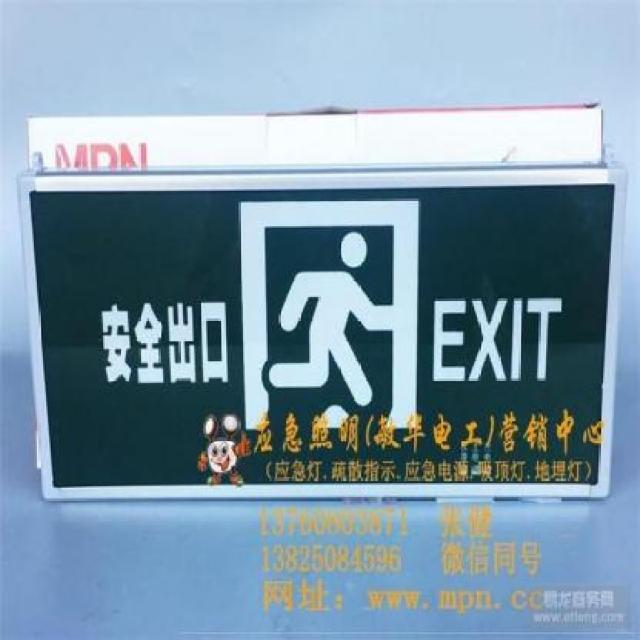exit_sign: (23, 168, 615, 506)
